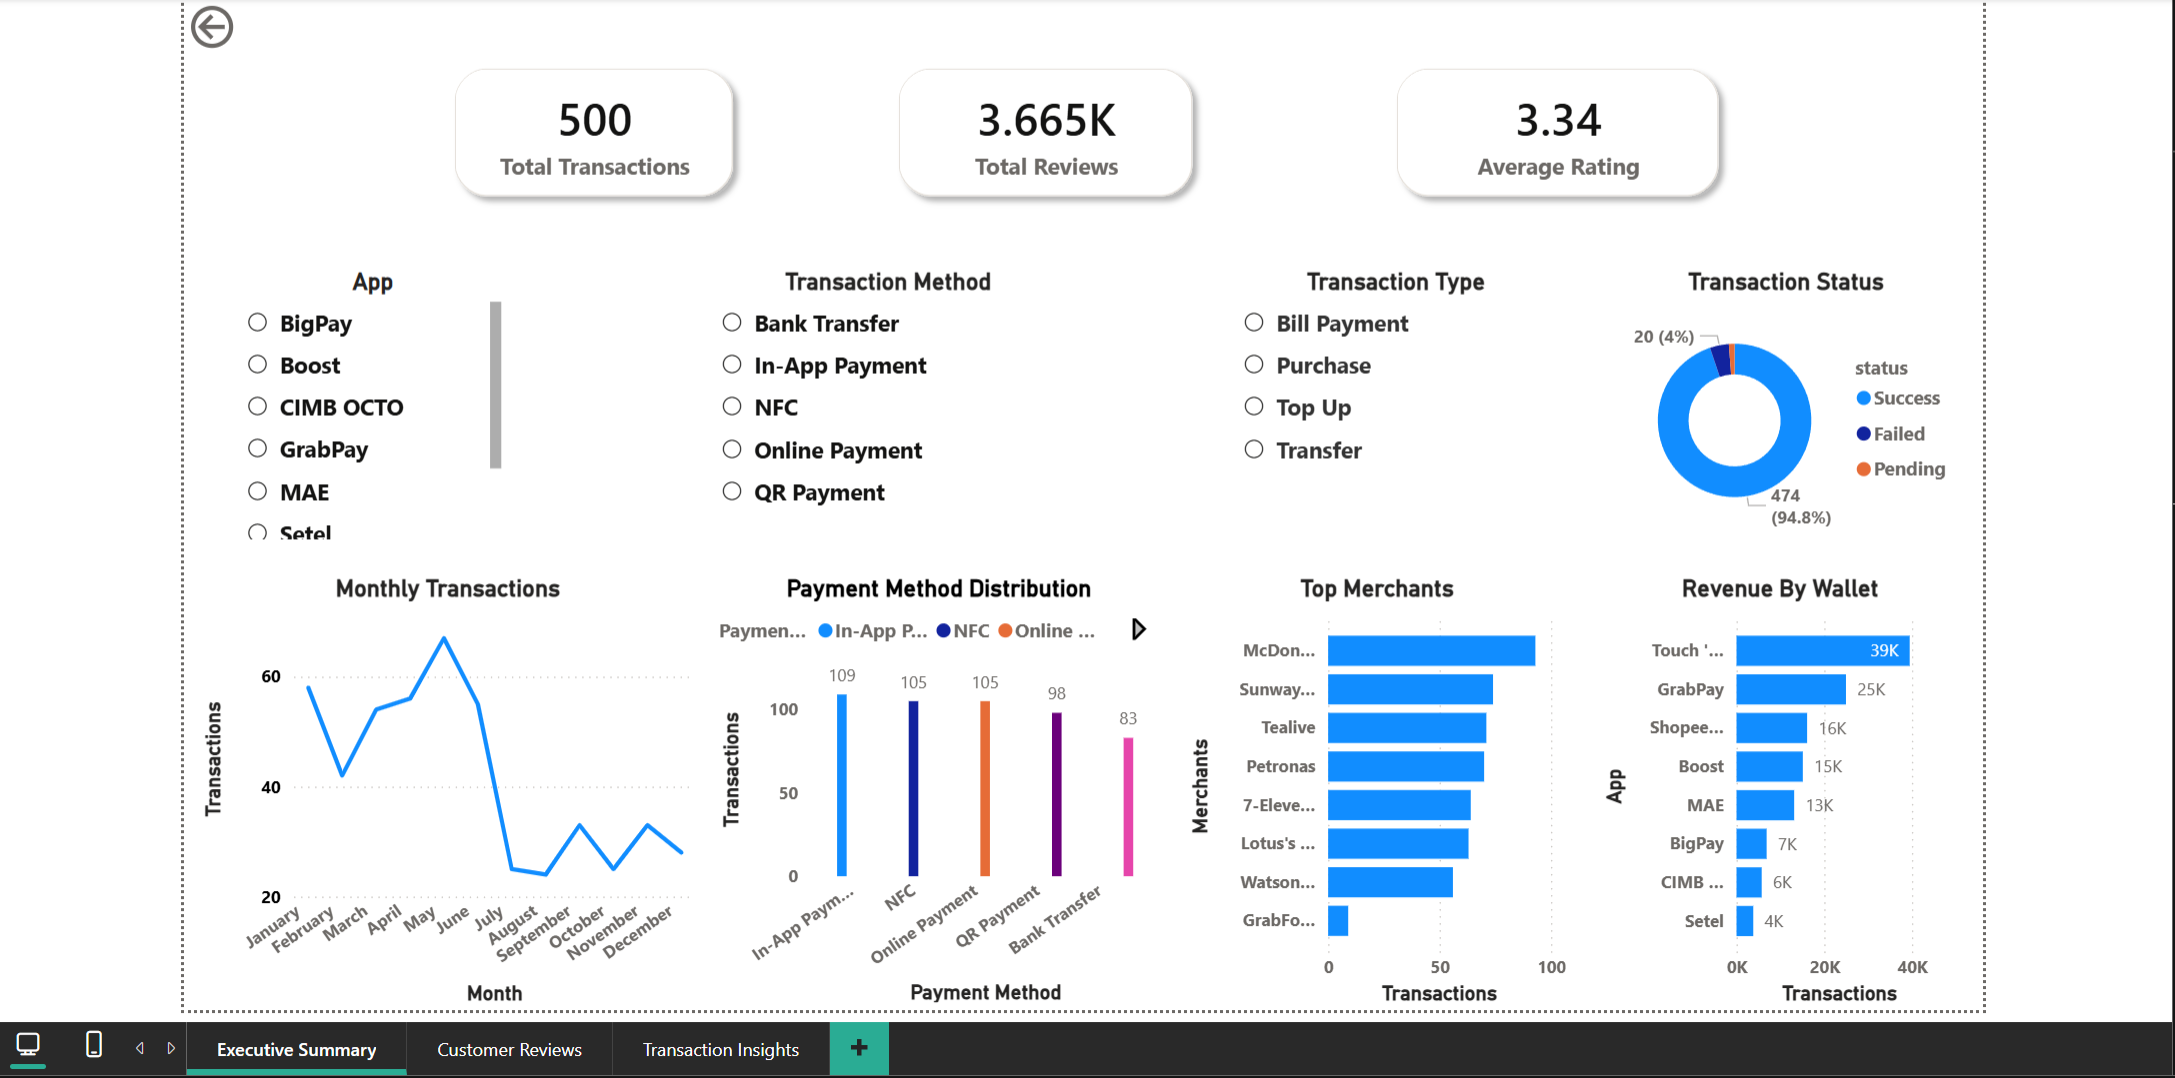

What the dashboard file says about the page in this screenshot:
{"tool":"powerbi","page":{"name":"Executive Summary","canvas":[1280,720],"ordinal":0},"visuals":[{"type":"actionButton","box":[0,0,100,40],"z":0},{"type":"listSlicer","fields":{"Values":["public apps.app_name"]},"box":[38.4,191,192.1,198.5],"z":1000},{"type":"listSlicer","fields":{"Values":["public transactions.transaction_type"]},"box":[747,191,230.5,206],"z":2000},{"type":"listSlicer","fields":{"Values":["public transactions.payment_method"]},"box":[375.7,191,250.8,198.5],"z":3000},{"type":"lineChart","title":" Monthly Transactions","fields":{"Y":["CountNonNull(public transactions.transaction_id)"],"Category":["public transactions.transaction_date.Variation.Date Hierarchy.Month","public transactions.transaction_date.Variation.Date Hierarchy.Day"]},"box":[7.4,410.3,360.7,310.1],"z":4000},{"type":"clusteredColumnChart","title":"Payment Method Distribution","fields":{"Category":["public transactions.payment_method"],"Series":["public transactions.payment_method"],"Y":["CountNonNull(public transactions.transaction_id)"]},"box":[375.6,409.7,323.2,309.6],"z":5000},{"type":"donutChart","title":"Transaction Status","fields":{"Category":["public transactions.status"],"Y":["Count(public transactions.transaction_id)"]},"box":[1011.5,190.9,256.3,198.3],"z":6000},{"type":"clusteredBarChart","title":"Top Merchants","fields":{"Category":["public merchants.merchant_name"],"Y":["Count(public transactions.transaction_id)"]},"box":[709.7,409.8,278.5,310.6],"z":7000},{"type":"clusteredBarChart","title":"Revenue By Wallet","fields":{"Category":["public apps.app_name"],"Y":["Sum(public transactions.transaction_id)"]},"box":[1003.8,409.7,262.9,310.7],"z":8000},{"type":"cardVisual","fields":{"Data":["Min(public transactions.app_id)"]},"box":[76.3,19.3,240.1,150.2],"z":9000},{"type":"cardVisual","fields":{"Data":["Avg(public reviews.rating)"]},"box":[979.9,19.3,286.8,149.1],"z":10000},{"type":"cardVisual","fields":{"Data":["CountNonNull(public reviews.review_id)"]},"box":[687.4,20.5,267.5,149.1],"z":11000},{"type":"cardVisual","fields":{"Data":["CountNonNull(public transactions.transaction_id)"]},"box":[373.3,19.3,256.1,149.1],"z":12000}]}

Visuals, with their boxes on the page's 1280x720 design canvas (x1, y1, x2, y2). These are canvas units, not pixel positions in the 2175x1078 screenshot, which may show the page scaled, cropped or inside an application window:
actionButton: [0,0,100,40]
listSlicer - public apps.app_name: [38,191,230,390]
listSlicer - public transactions.transaction_type: [747,191,978,397]
listSlicer - public transactions.payment_method: [376,191,626,390]
" Monthly Transactions" lineChart: [7,410,368,720]
"Payment Method Distribution" clusteredColumnChart: [376,410,699,719]
"Transaction Status" donutChart: [1012,191,1268,389]
"Top Merchants" clusteredBarChart: [710,410,988,720]
"Revenue By Wallet" clusteredBarChart: [1004,410,1267,720]
cardVisual - Min(public transactions.app_id): [76,19,316,170]
cardVisual - Avg(public reviews.rating): [980,19,1267,168]
cardVisual - CountNonNull(public reviews.review_id): [687,20,955,170]
cardVisual - CountNonNull(public transactions.transaction_id): [373,19,629,168]
